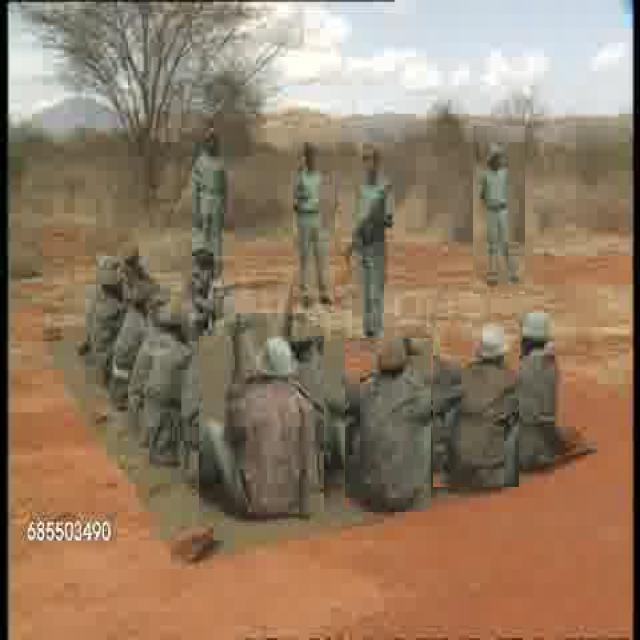poacher: (199, 336, 324, 523), (345, 338, 431, 508), (433, 320, 519, 487), (496, 308, 587, 460), (347, 142, 400, 336), (474, 126, 526, 294), (293, 137, 335, 313), (188, 122, 229, 266)
